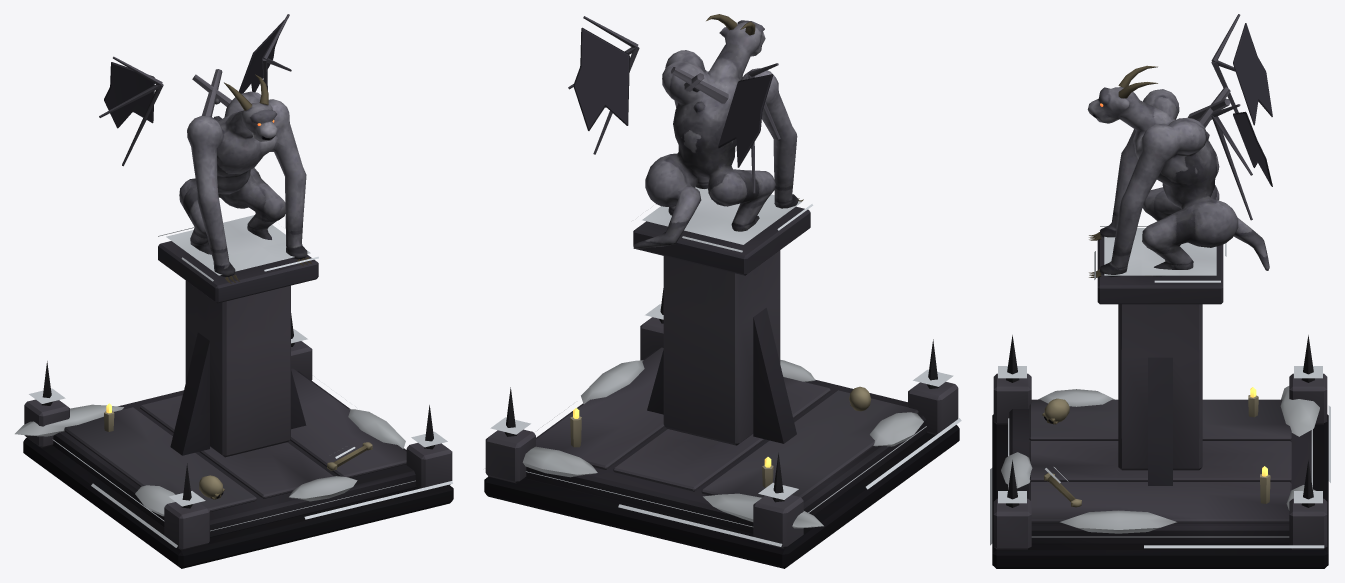
Rendered from ombres-4.glb.
3 renders of one model, left to right at view 1: azimuth 30°, elevation 25°; view 2: azimuth 150°, elevation 25°; view 3: azimuth 270°, elevation 25°, orthographic. The views are drawn at different scales.
Visible parts, largest first — view 1: ombres_4_architecture, ombres_4_gargouille, ombres_4_gargouille_accessoires; view 2: ombres_4_architecture, ombres_4_gargouille, ombres_4_gargouille_accessoires; view 3: ombres_4_architecture, ombres_4_gargouille, ombres_4_gargouille_accessoires.
Part boxes in pixels (x1,y1,x2,y2): ombres_4_architecture: [15, 215, 453, 568]; ombres_4_gargouille: [179, 91, 307, 276]; ombres_4_gargouille_accessoires: [99, 14, 312, 283]; ombres_4_architecture: [484, 187, 961, 568]; ombres_4_gargouille: [633, 20, 798, 248]; ombres_4_gargouille_accessoires: [568, 14, 803, 201]; ombres_4_architecture: [990, 226, 1330, 568]; ombres_4_gargouille: [1087, 87, 1269, 277]; ombres_4_gargouille_accessoires: [1089, 14, 1272, 277].
Size of the model in its own units: 0.8655 by 1.16 by 0.811.
Materials: 5 (1 with a texture image).
